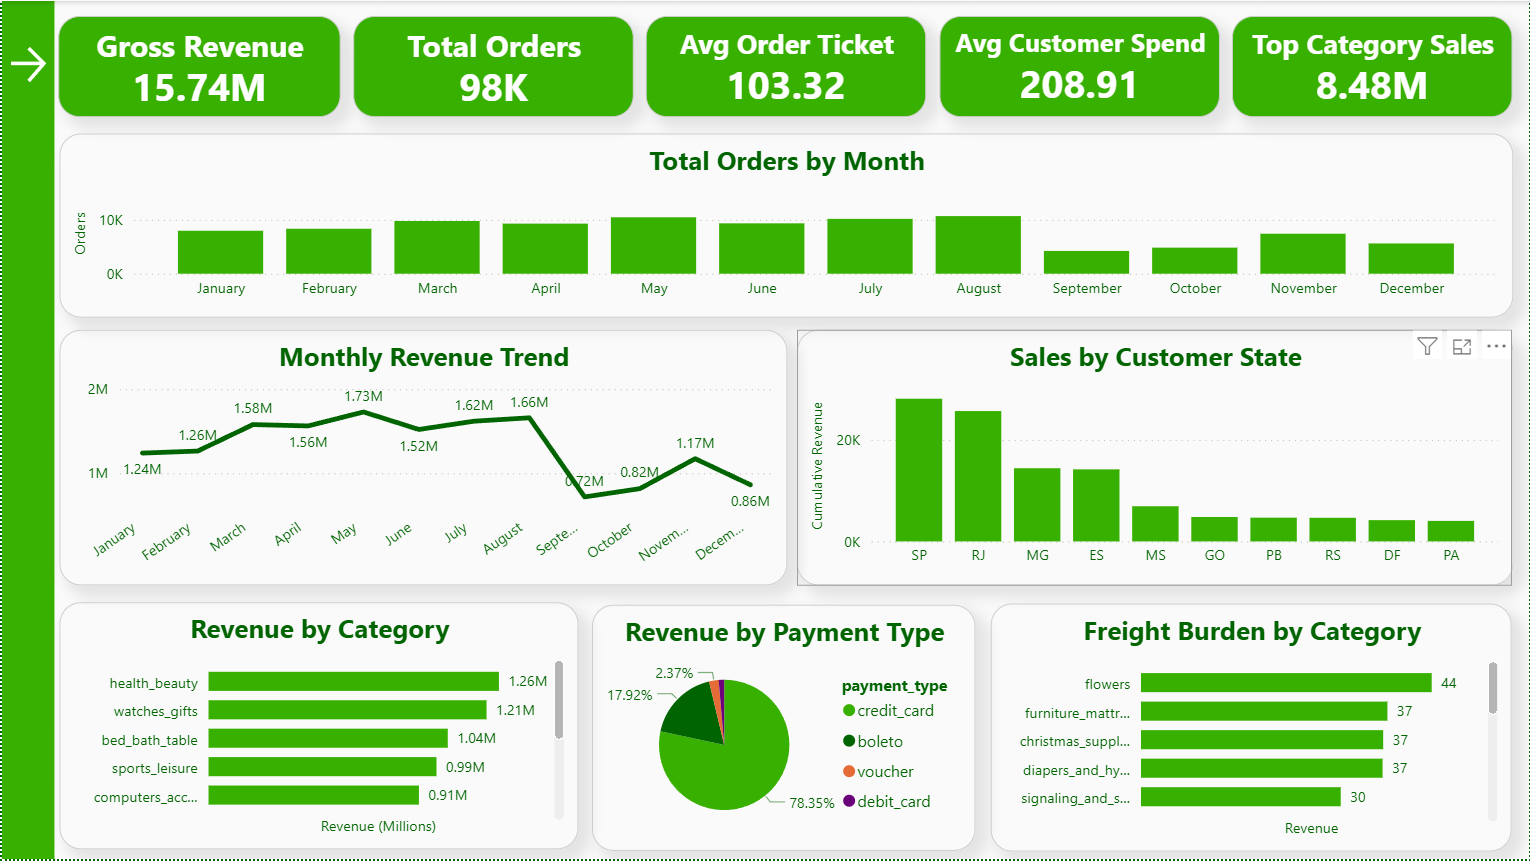

Layout of this report page (visuals, bound fields, positions):
{"tool":"powerbi","page":{"name":"HomePage","canvas":[1280,720],"ordinal":0},"visuals":[{"type":"shape","box":[0,0,44,720],"z":0},{"type":"card","title":"Gross Revenue","fields":{"Values":["Sum(q1_monthly_revenue.gross_revenue)"]},"box":[47.6,13,236.6,85],"z":1000},{"type":"card","title":"Total Orders","fields":{"Values":["Sum(q1_monthly_revenue.total_orders)"]},"box":[294.7,13,235.2,85],"z":2000},{"type":"card","title":"Avg Order Ticket","fields":{"Values":["Avg(q6_payment_split.avg_ticket)"]},"box":[540.3,13,235.2,85],"z":3000},{"type":"card","title":"Avg Customer Spend","fields":{"Values":["Avg(q10_rfm.avg_monetary)"]},"box":[785.9,13,235.2,85],"z":4000},{"type":"card","title":"Top Category Sales","fields":{"Values":["Sum(q2_top_categories.revenue)"]},"box":[1031.6,13,235.2,85],"z":5000},{"type":"lineClusteredColumnComboChart","title":"Total Orders by Month","fields":{"Category":["q1_monthly_revenue.month.Variation.Date Hierarchy.Month"],"Y":["Sum(q1_monthly_revenue.total_orders)"]},"box":[47.9,111.5,1218.9,154.6],"z":6000},{"type":"lineChart","title":"Monthly Revenue Trend","fields":{"Category":["q9_mom_growth.month.Variation.Date Hierarchy.Month"],"Y":["Sum(q9_mom_growth.revenue)"]},"box":[47.9,275.7,610,214.5],"z":7000},{"type":"clusteredColumnChart","title":"Sales by Customer State","fields":{"Category":["q3_customer_ltv.customer_state"],"Y":["Sum(q3_customer_ltv.lifetime_value)"]},"box":[666.4,275.7,600.4,214.5],"z":8000},{"type":"barChart","title":"Revenue by Category","fields":{"Category":["q2_top_categories.category"],"Y":["Sum(q2_top_categories.revenue)"]},"box":[47.9,504.6,435.1,207.3],"z":9000},{"type":"barChart","title":"Freight Burden by Category","fields":{"Category":["q15_freight_burden.category"],"Y":["Sum(q15_freight_burden.freight_pct)"]},"box":[829.6,505,437.2,207.8],"z":10000},{"type":"pieChart","title":"Revenue by Payment Type","fields":{"Category":["q6_payment_split.payment_type"],"Y":["Sum(q6_payment_split.pct_of_revenue)"]},"box":[494.9,506.4,321.7,206.3],"z":11000},{"type":"actionButton","box":[0,34,43.1,39.6],"z":13000}]}

Visuals, with their boxes in screenshot pixels (x1, y1, x2, y2), scaled from the page's 1280x720 canvas onto the 1530x863 screenshot:
shape: (left=0, top=0, right=53, bottom=862)
"Gross Revenue" card: (left=57, top=16, right=340, bottom=117)
"Total Orders" card: (left=352, top=16, right=633, bottom=117)
"Avg Order Ticket" card: (left=646, top=16, right=927, bottom=117)
"Avg Customer Spend" card: (left=939, top=16, right=1221, bottom=117)
"Top Category Sales" card: (left=1233, top=16, right=1514, bottom=117)
"Total Orders by Month" lineClusteredColumnComboChart: (left=57, top=134, right=1514, bottom=319)
"Monthly Revenue Trend" lineChart: (left=57, top=330, right=786, bottom=588)
"Sales by Customer State" clusteredColumnChart: (left=797, top=330, right=1514, bottom=588)
"Revenue by Category" barChart: (left=57, top=605, right=577, bottom=853)
"Freight Burden by Category" barChart: (left=992, top=605, right=1514, bottom=854)
"Revenue by Payment Type" pieChart: (left=592, top=607, right=976, bottom=854)
actionButton: (left=0, top=41, right=52, bottom=88)
